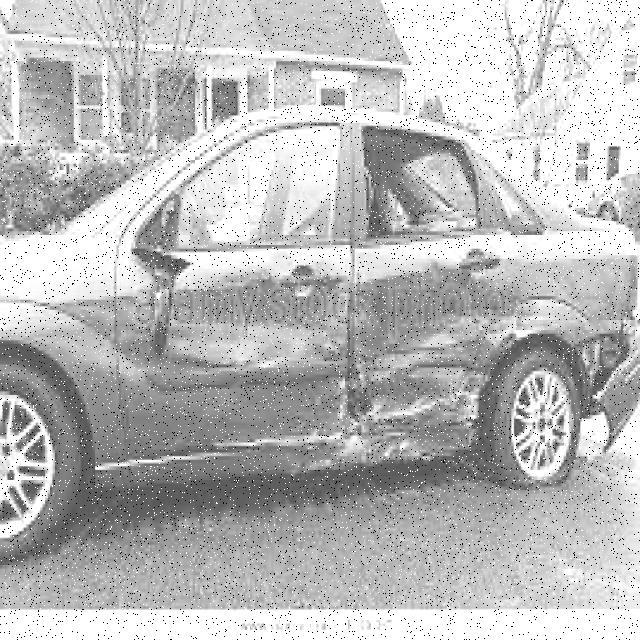car damage: (17, 125, 637, 478)
